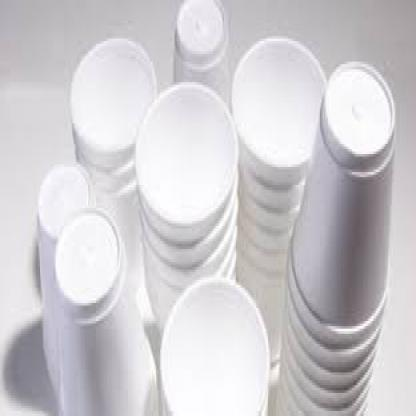paper: (275, 59, 393, 413), (229, 33, 324, 365), (133, 74, 235, 339), (51, 210, 156, 414), (68, 36, 156, 236), (133, 77, 239, 241), (158, 272, 270, 414), (231, 34, 325, 192), (36, 156, 96, 395), (66, 33, 158, 172), (172, 0, 231, 106)
